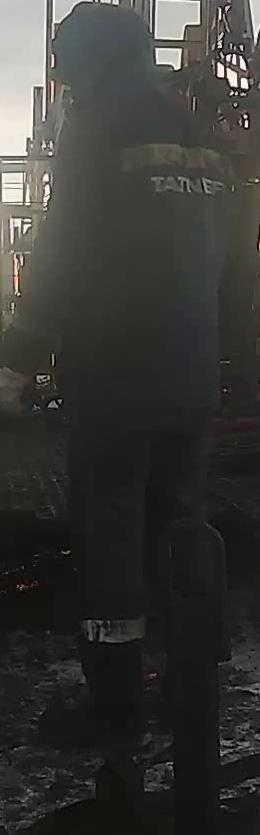gloves: (0, 364, 34, 431)
vest: (35, 94, 240, 428)
